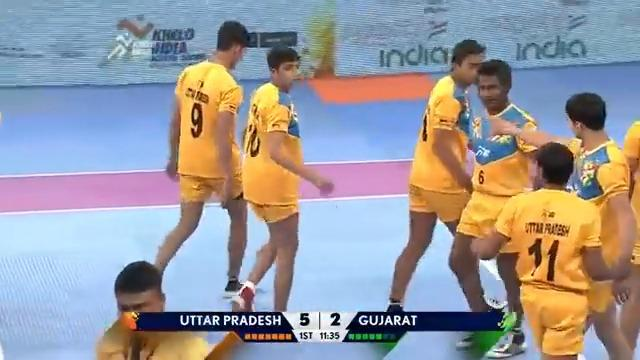Player: (383, 37, 500, 318), (152, 19, 251, 298), (234, 43, 335, 312), (520, 148, 578, 316), (561, 90, 631, 219), (472, 61, 528, 172)
